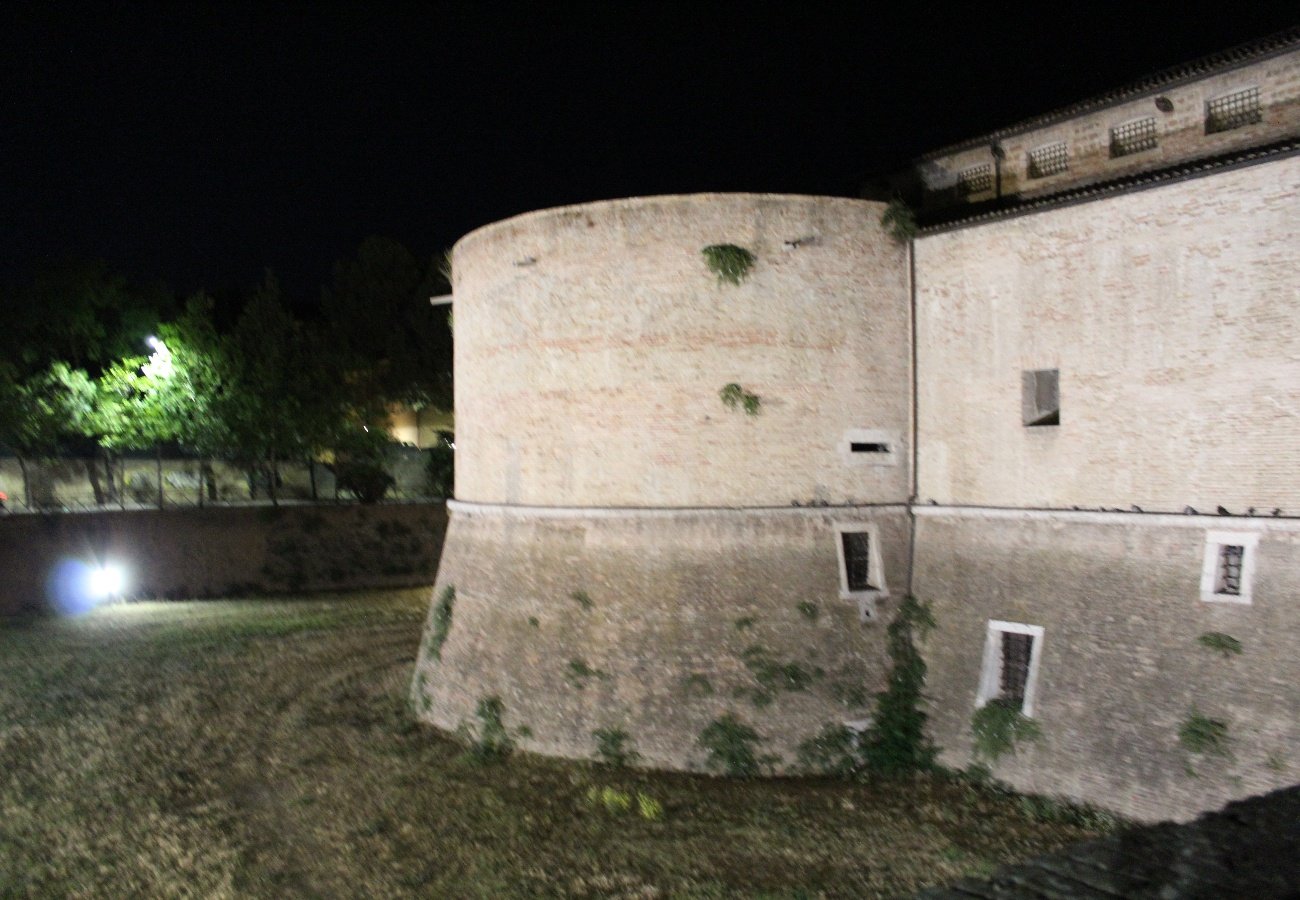Rocca Costanza: (410, 192, 1300, 819)
